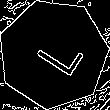L_NW: (24, 27, 83, 80)
